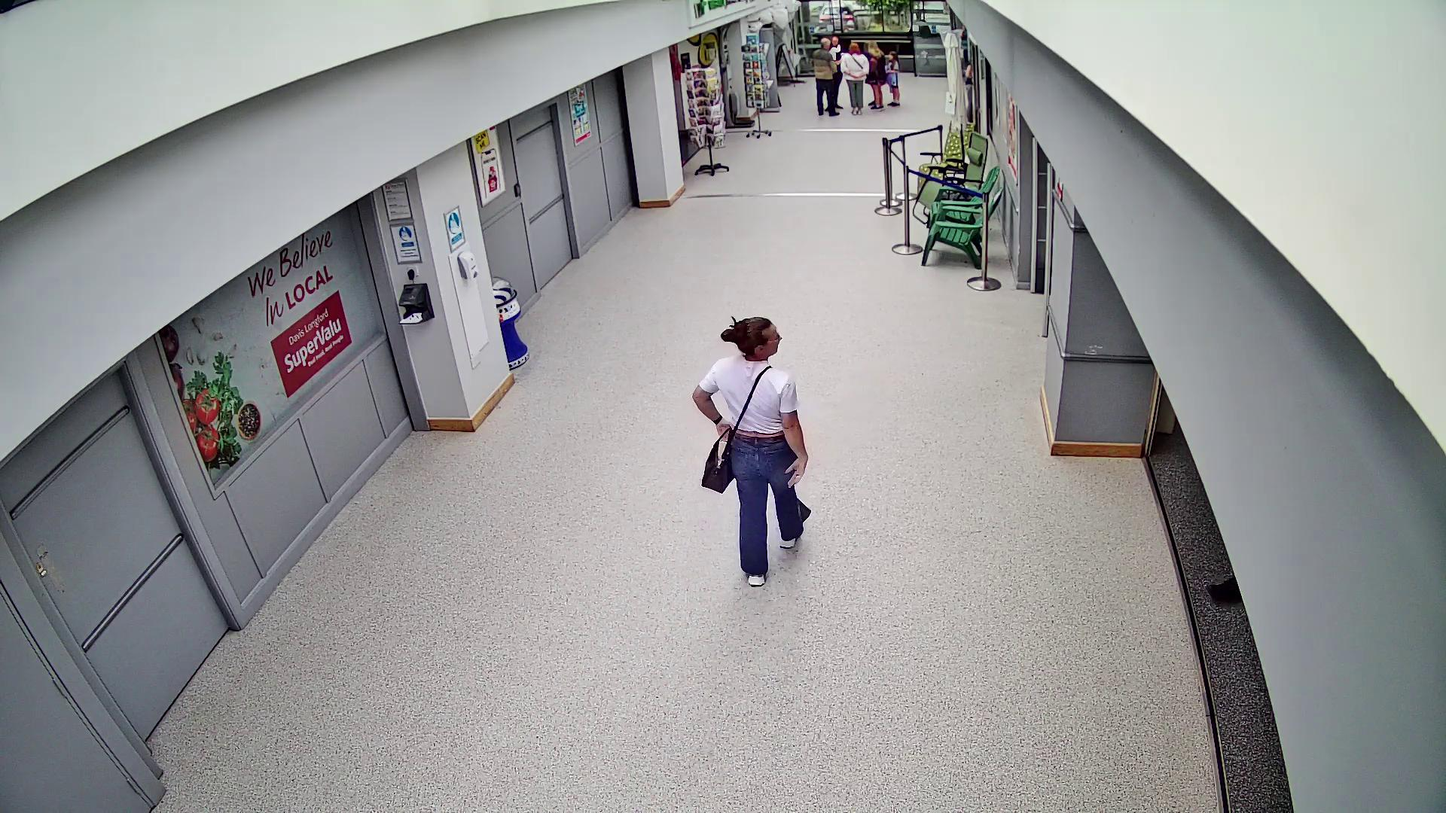backpack-or-handbag: (701, 427, 737, 493)
person: (691, 317, 809, 586)
person-with-backpack-handbag: (691, 317, 809, 585)
